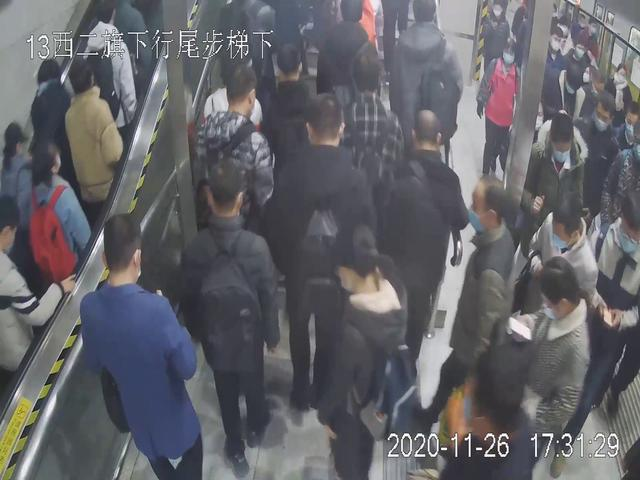person: (76, 221, 215, 480), (182, 158, 297, 468), (305, 225, 437, 480), (266, 93, 370, 410), (432, 176, 537, 427), (192, 65, 275, 269), (10, 135, 84, 320), (53, 62, 116, 206), (477, 38, 535, 187)
